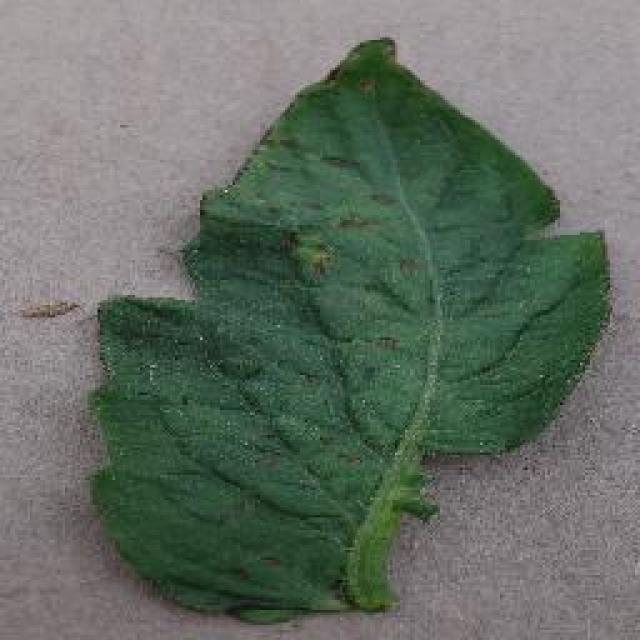Tomato bacterial spot leaf: (81, 48, 611, 620)
